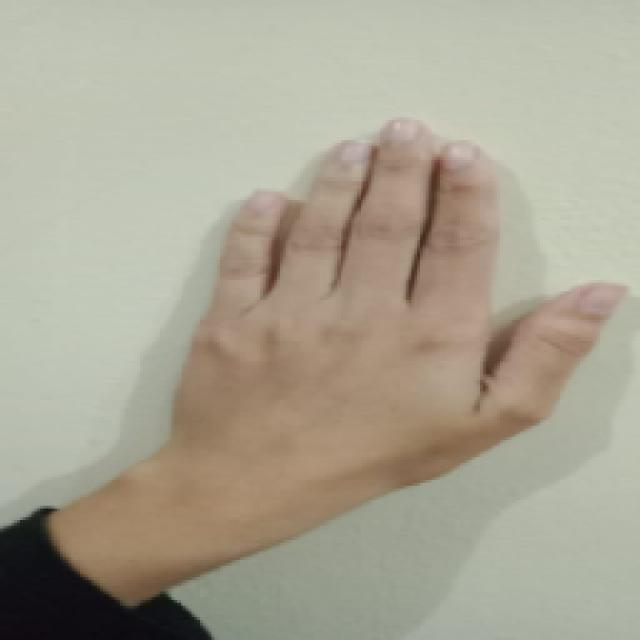Nail: (579, 283, 626, 317), (443, 141, 479, 169), (388, 118, 421, 142), (335, 140, 370, 161), (248, 191, 275, 211)
